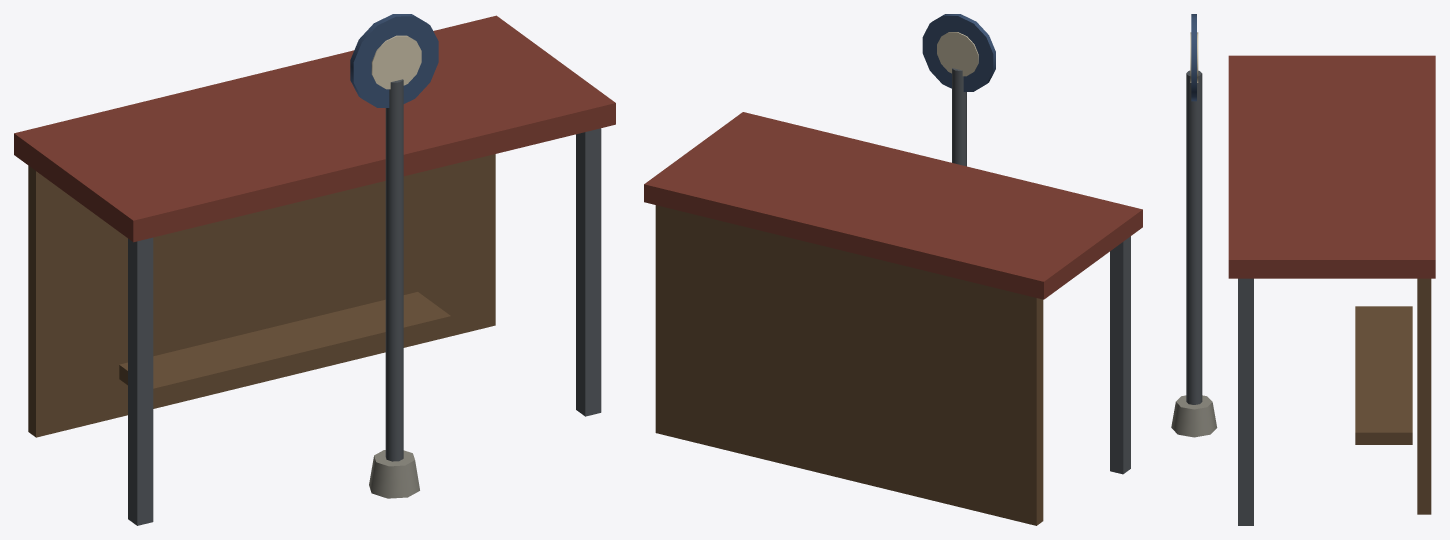
The model's file is bus-stop.glb.
3 views of the same model, side by side, from view 1: azimuth 30°, elevation 25°; view 2: azimuth 150°, elevation 25°; view 3: azimuth 270°, elevation 25° (orthographic). The views are drawn at different scales.
Parts seen in each view (by area): view 1: _MeshInstance3D_113, _MeshInstance3D_112, _MeshInstance3D_116, _MeshInstance3D_114, _MeshInstance3D_115, _MeshInstance3D_108, _MeshInstance3D_110, _MeshInstance3D_111, _MeshInstance3D_109; view 2: _MeshInstance3D_113, _MeshInstance3D_112, _MeshInstance3D_114, _MeshInstance3D_110, _MeshInstance3D_111, _MeshInstance3D_108; view 3: _MeshInstance3D_112, _MeshInstance3D_116, _MeshInstance3D_108, _MeshInstance3D_115, _MeshInstance3D_113, _MeshInstance3D_109, _MeshInstance3D_110.
Boxes of the visible parts, left/top/right/bottom form: _MeshInstance3D_113: left=28, top=154, right=495, bottom=437; _MeshInstance3D_112: left=14, top=15, right=615, bottom=242; _MeshInstance3D_116: left=119, top=292, right=450, bottom=402; _MeshInstance3D_114: left=128, top=237, right=153, bottom=525; _MeshInstance3D_115: left=576, top=128, right=601, bottom=416; _MeshInstance3D_108: left=385, top=79, right=403, bottom=461; _MeshInstance3D_110: left=350, top=14, right=438, bottom=107; _MeshInstance3D_111: left=371, top=35, right=421, bottom=89; _MeshInstance3D_109: left=369, top=450, right=419, bottom=498; _MeshInstance3D_113: left=655, top=205, right=1043, bottom=525; _MeshInstance3D_112: left=644, top=112, right=1142, bottom=299; _MeshInstance3D_114: left=1110, top=236, right=1130, bottom=474; _MeshInstance3D_110: left=922, top=14, right=995, bottom=91; _MeshInstance3D_111: left=937, top=32, right=978, bottom=76; _MeshInstance3D_108: left=952, top=68, right=966, bottom=166; _MeshInstance3D_112: left=1228, top=55, right=1435, bottom=278; _MeshInstance3D_116: left=1355, top=306, right=1412, bottom=444; _MeshInstance3D_108: left=1186, top=70, right=1202, bottom=404; _MeshInstance3D_115: left=1238, top=278, right=1253, bottom=525; _MeshInstance3D_113: left=1417, top=278, right=1431, bottom=514; _MeshInstance3D_109: left=1171, top=395, right=1217, bottom=437; _MeshInstance3D_110: left=1191, top=14, right=1196, bottom=101.
Bounding box in the file's own units: 4.2 × 3.93 × 2.3.
